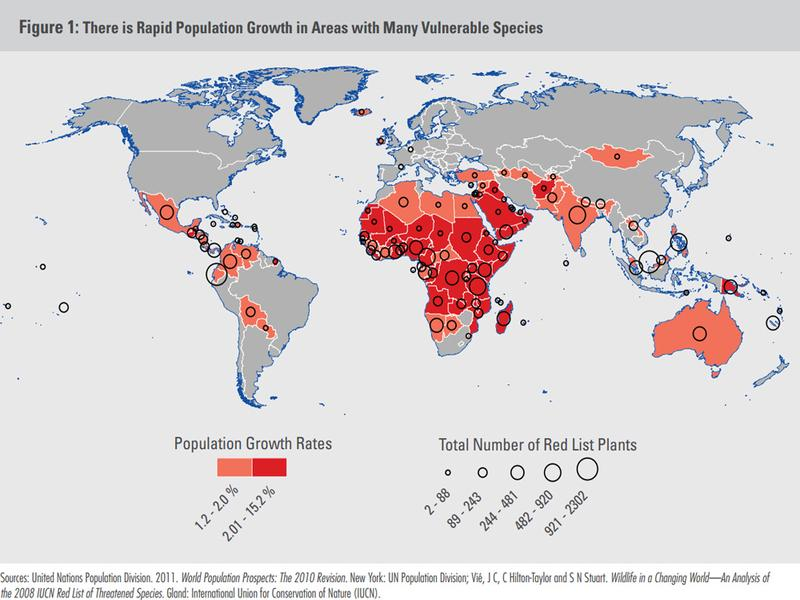legend: (173, 433, 335, 543)
